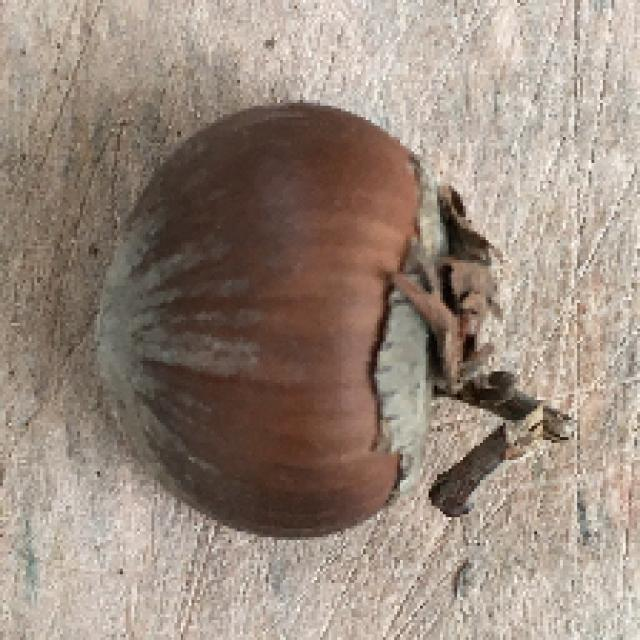damagedHazelnut: (79, 95, 499, 532)
